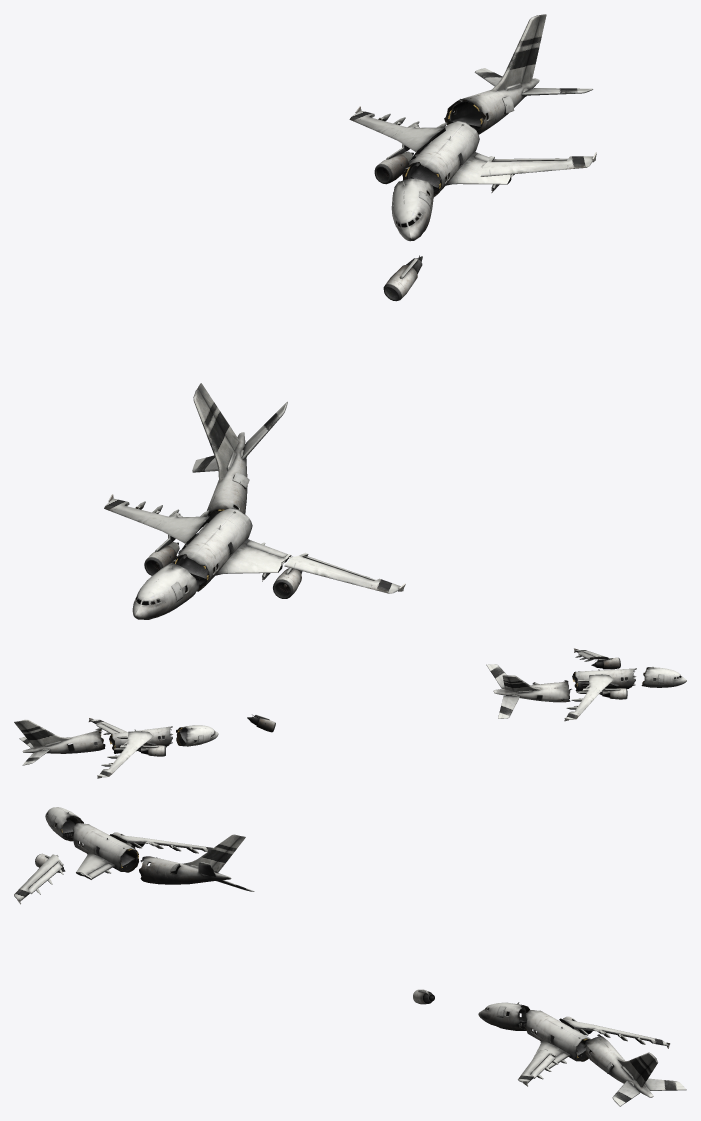
The model's file is maybay.glb.
3 renders of one model, top to bottom at view 1: azimuth 30°, elevation 25°; view 2: azimuth 150°, elevation 25°; view 3: azimuth 270°, elevation 25°, orthographic. The views are drawn at different scales.
Visible parts, largest first — view 1: Object_2, Object_3; view 2: Object_2, Object_3; view 3: Object_2, Object_3.
Part boxes in pixels (x1,y1,x2,y2): Object_2: [104, 78, 596, 619]; Object_3: [146, 14, 593, 595]; Object_2: [22, 648, 686, 778]; Object_3: [14, 657, 655, 765]; Object_2: [14, 807, 670, 1097]; Object_3: [35, 819, 686, 1106].
Size of the model in its own units: 136 by 14.09 by 135.
2 materials, 2 textured.
